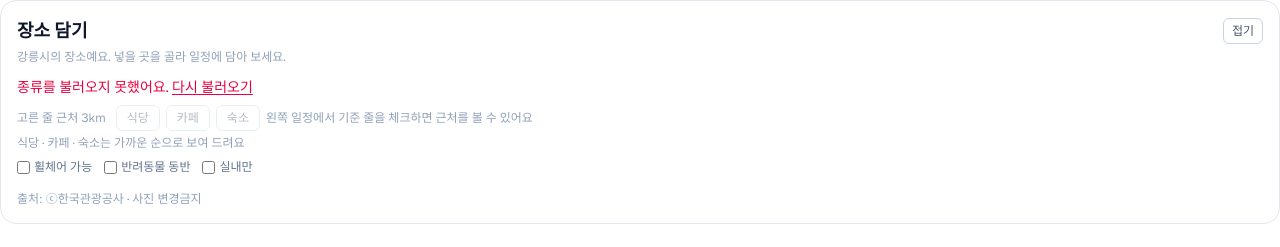
Test case: 🔴 등록 화면 — 못 받으면 멈춰 있지 않고 다시 불러오기를 준다
This screenshot has width=1280, height=247.
Click the button "다시 불러오기" at (212, 87), box left=172, top=77, right=253, bottom=97
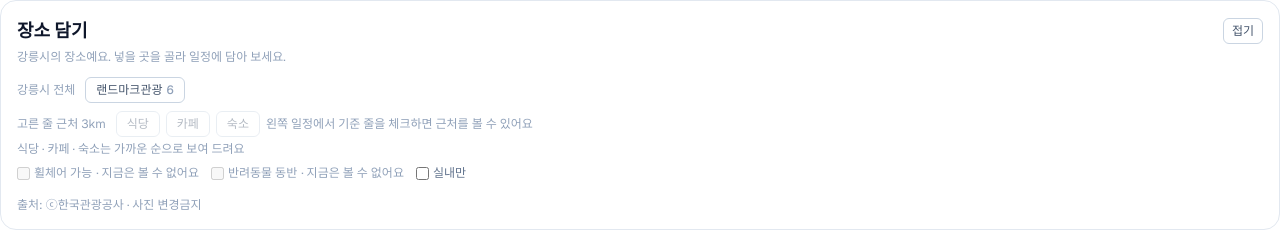
Result: the button "랜드마크관광6" is shown at left=85, top=77, right=185, bottom=103
Result: the text "종류를 불러오지 못했어요." is gone
